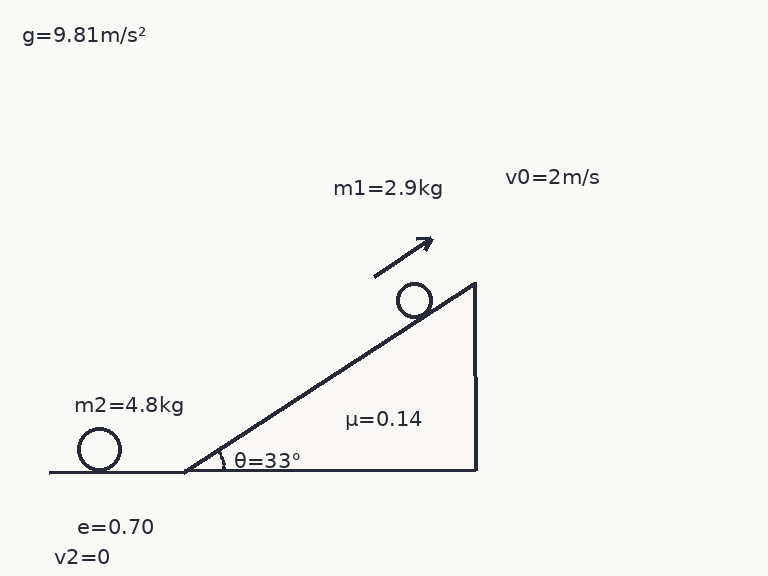ball: (75, 425, 123, 473), (394, 280, 434, 320)
ramp: (182, 281, 476, 473)
